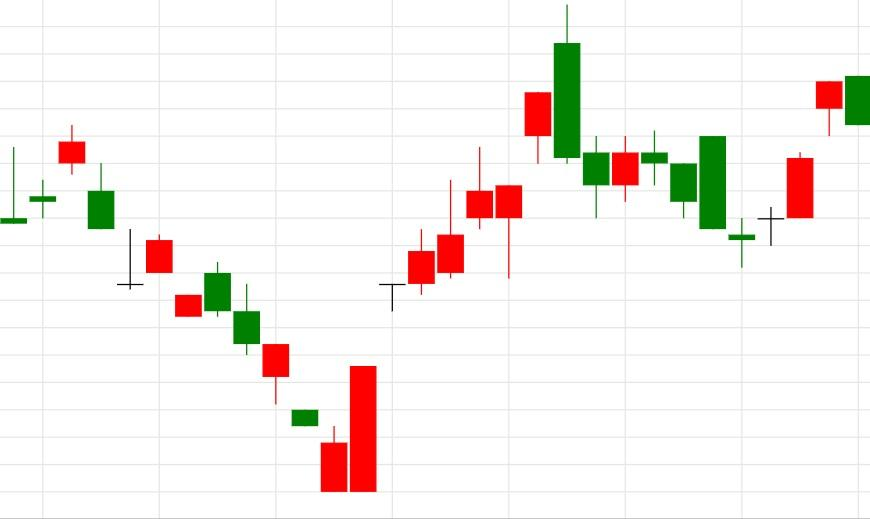bearish_engulfing_fall: (320, 4, 582, 492)
